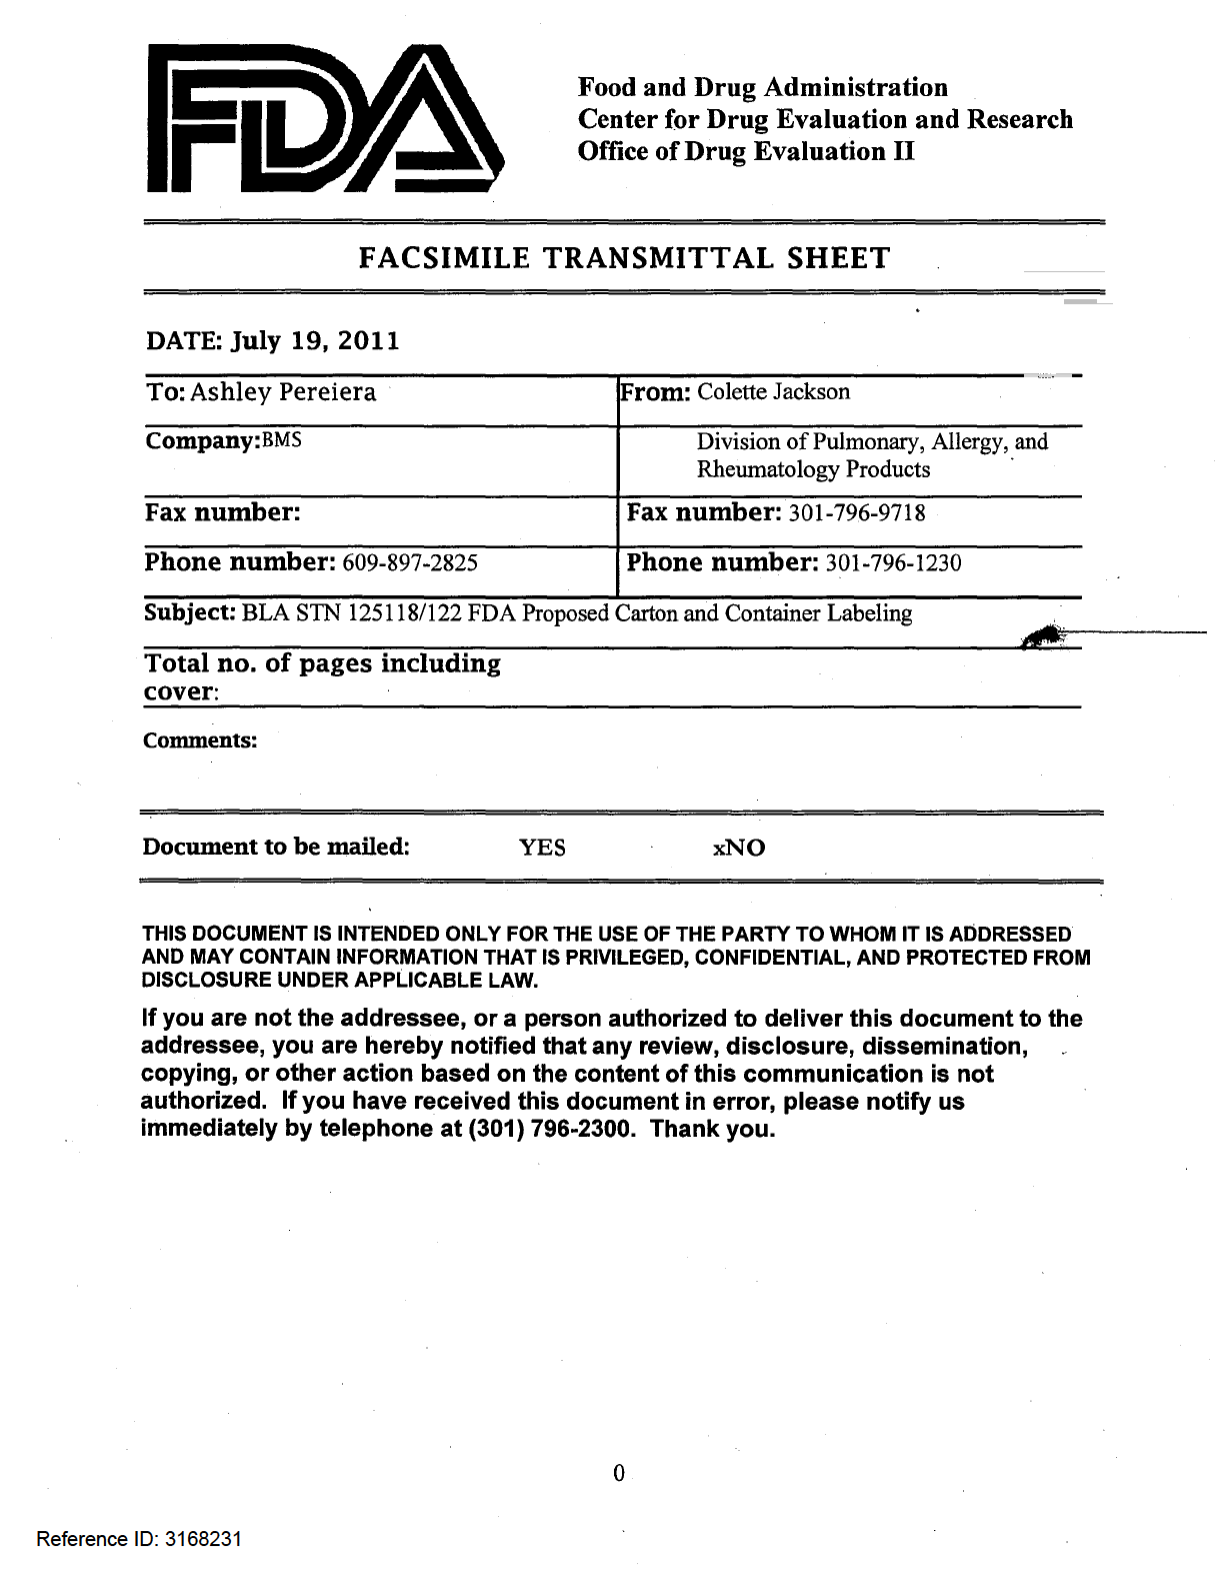partial_lined_merged_cells: (139, 285, 1105, 885)
